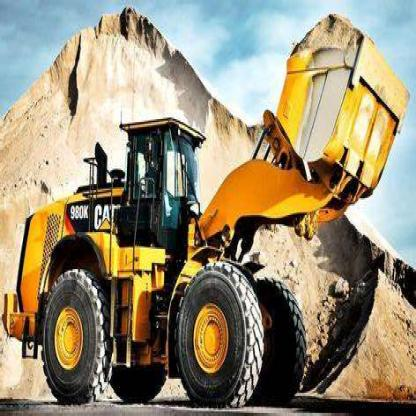bull_dozer/loader/grader: (3, 14, 410, 411)
